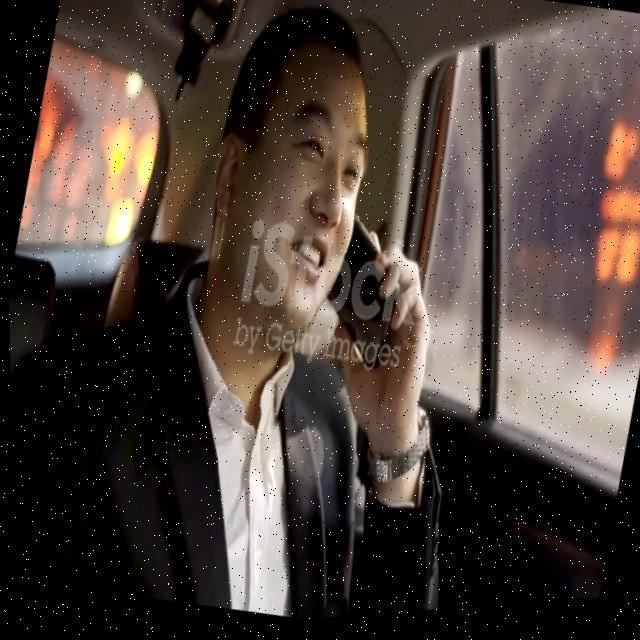PhoneCall: (312, 206, 413, 380)
